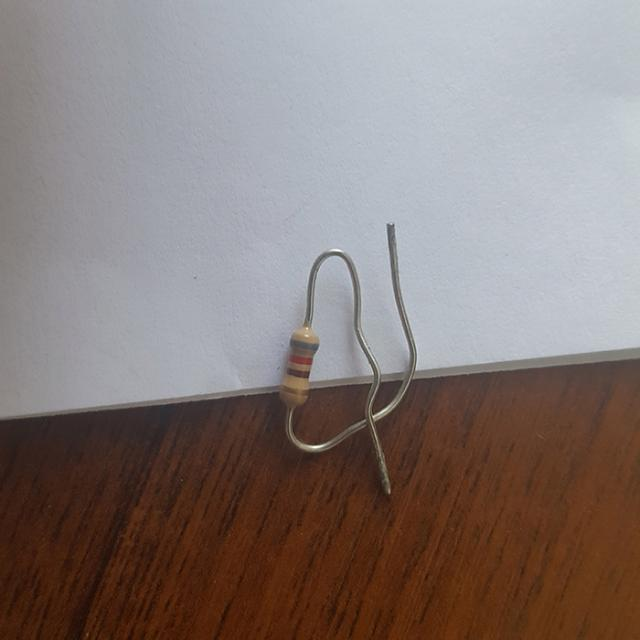brown: (286, 368, 308, 378)
gold: (281, 386, 306, 394)
grey: (290, 340, 318, 351)
red: (290, 355, 313, 365)
resistor: (268, 324, 333, 410)
